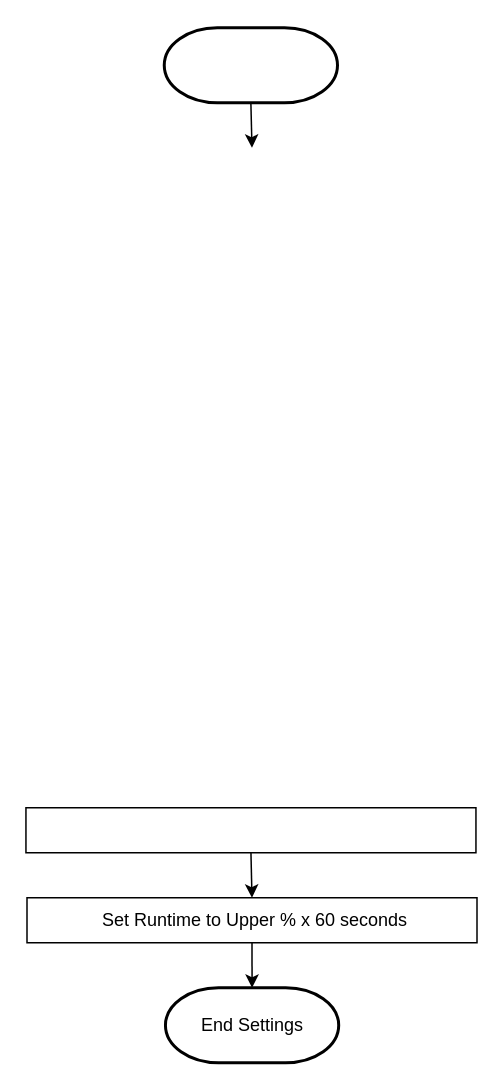
This 504x1089 diagram has some shape labels left out. Each missing label, with the centre of its shape:
"Begin Settings" goes at (250,65).
"Set Sensor Threshold to Upper % x 100" goes at (250,829).
